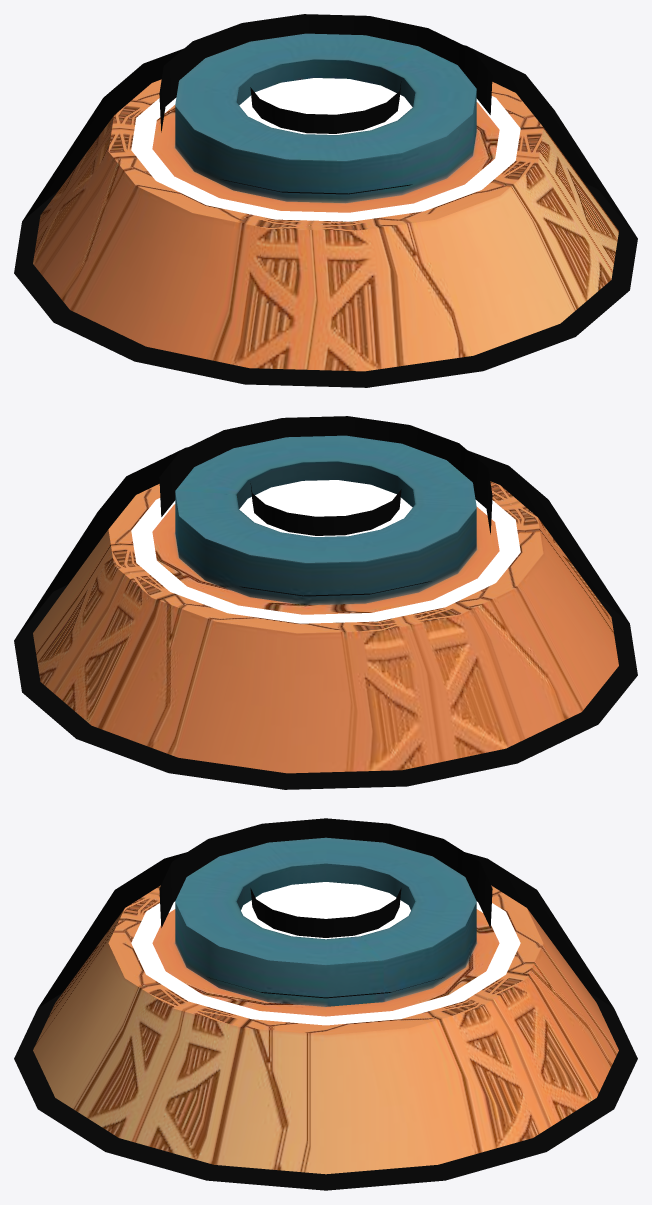
The picture shows the model from 3 angles, top to bottom: view 1: azimuth 30°, elevation 25°; view 2: azimuth 150°, elevation 25°; view 3: azimuth 270°, elevation 25°; orthographic projection.
Parts seen in each view (by area): view 1: animeFlagBase; view 2: animeFlagBase; view 3: animeFlagBase.
Part boxes in pixels (x1,y1,x2,y2): animeFlagBase: (14, 14, 637, 387); animeFlagBase: (14, 416, 637, 789); animeFlagBase: (14, 818, 637, 1190).
Size of what is drawn, in the model's own units: 0.4439 by 0.1348 by 0.4439.
3 materials, 1 textured.
